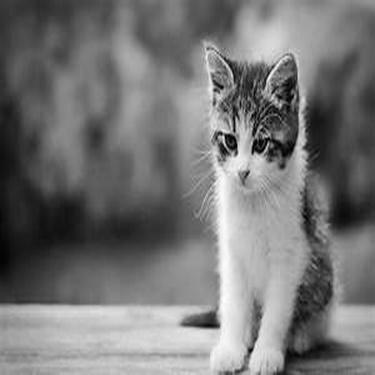cat: (175, 37, 336, 372)
